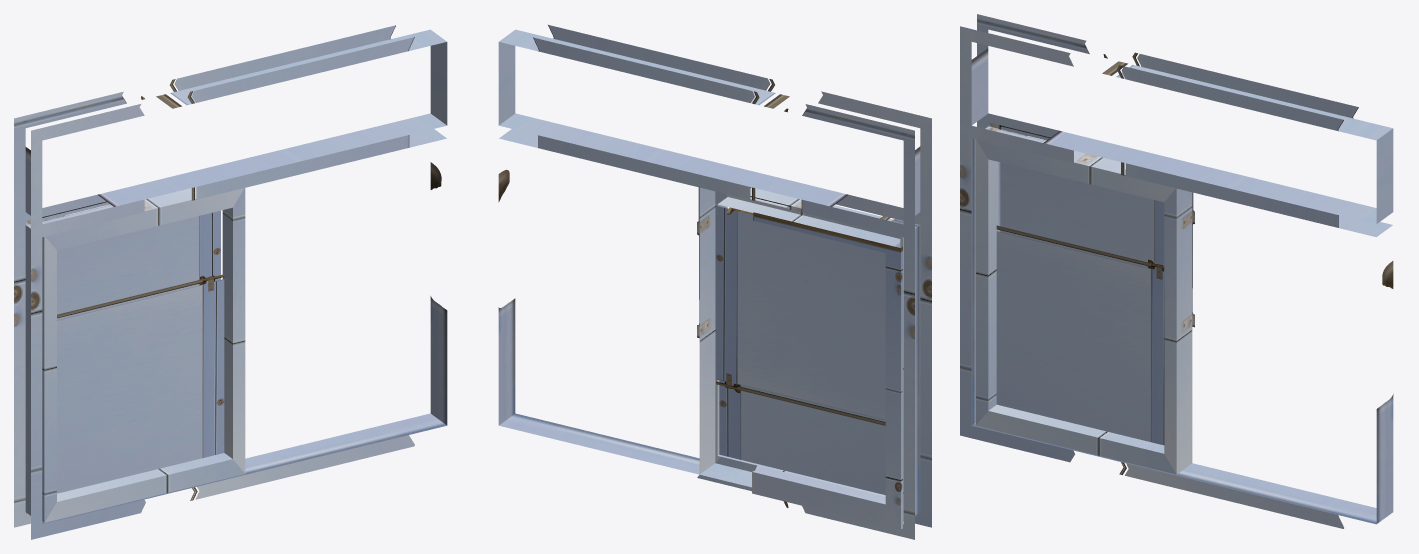
File: ventanaPequeCristal.fbx
3 renders of one model, left to right at view 1: azimuth 30°, elevation 25°; view 2: azimuth 150°, elevation 25°; view 3: azimuth 330°, elevation 25°, orthographic.
Visible parts, largest first — view 1: pasted__ventanaExterior43, pasted__ventanaAulaCristal, pasted__ventanaAulaMarco; view 2: pasted__ventanaAulaCristal, pasted__ventanaExterior43, pasted__ventanaAulaMarco; view 3: pasted__ventanaAulaCristal, pasted__ventanaExterior43, pasted__ventanaAulaMarco.
Boxes of the visible parts, left/top/right/bottom form: pasted__ventanaExterior43: left=14, top=25, right=447, bottom=539; pasted__ventanaAulaCristal: left=57, top=210, right=224, bottom=493; pasted__ventanaAulaMarco: left=26, top=187, right=245, bottom=522; pasted__ventanaAulaCristal: left=716, top=205, right=885, bottom=494; pasted__ventanaExterior43: left=498, top=25, right=931, bottom=539; pasted__ventanaAulaMarco: left=697, top=187, right=903, bottom=529; pasted__ventanaAulaCristal: left=996, top=162, right=1164, bottom=445; pasted__ventanaExterior43: left=960, top=14, right=1393, bottom=528; pasted__ventanaAulaMarco: left=976, top=122, right=1194, bottom=474.
Size of the model in its own units: 157 by 144 by 12.1.
Materials: 1 (1 with a texture image).
